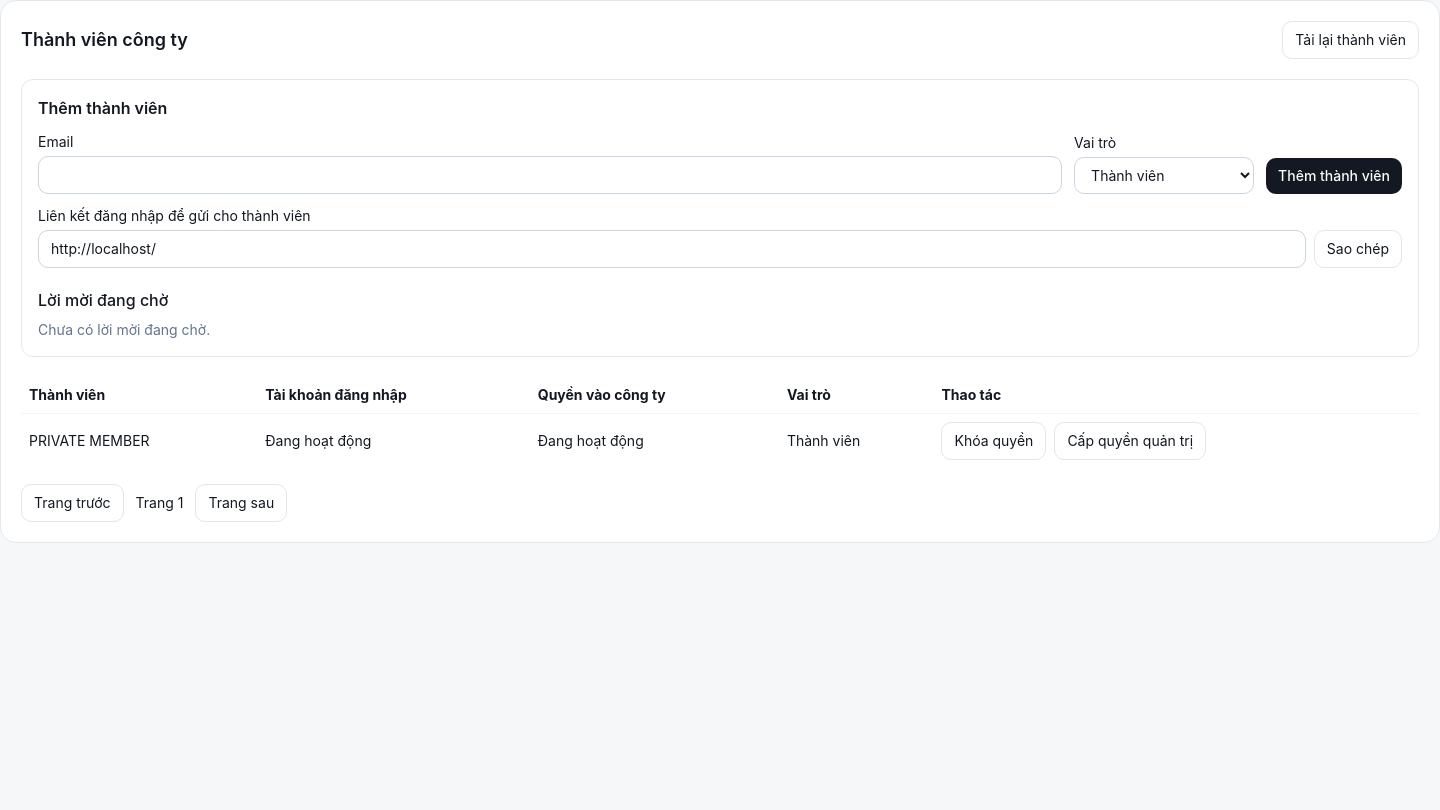
Test case: grants/removes through exact versioned operations and reloads authoritative roles
Check: the text "PRIVATE MEMBER" is shown, box [21,414,257,468]
Click the button with aria-label "Cấp quyền quản trị PRIVATE MEMBER" at {"x": 1130, "y": 441}, box [1054,422,1206,460]
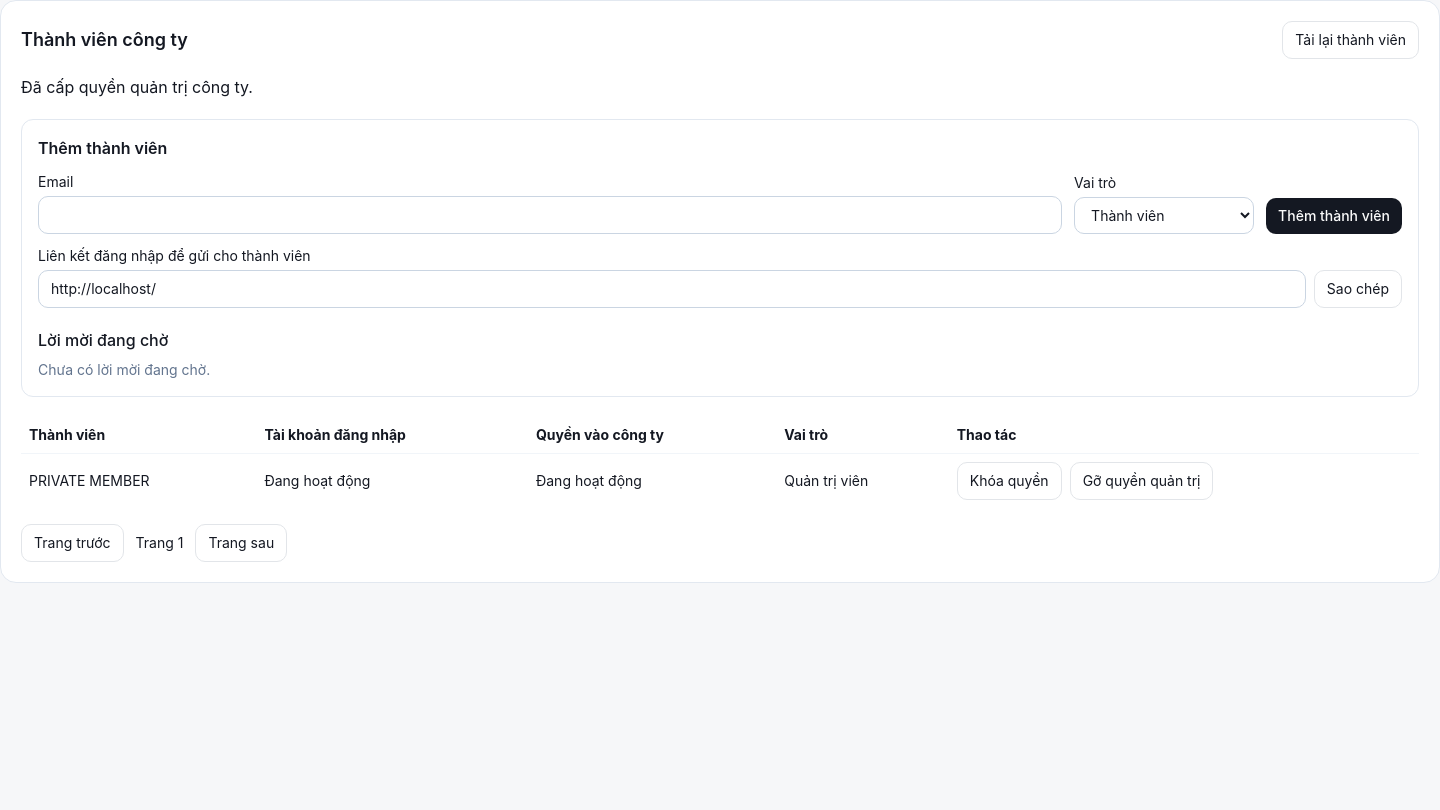
Check: the text "Đã cấp quyền quản trị công ty." is shown, box [21,77,253,97]
Check: the cell "Quản trị viên" is shown, box [776,454,949,508]
Click the button with aria-label "Gỡ quyền quản trị PRIVATE MEMBER" at {"x": 1142, "y": 481}, box [1070,462,1214,500]
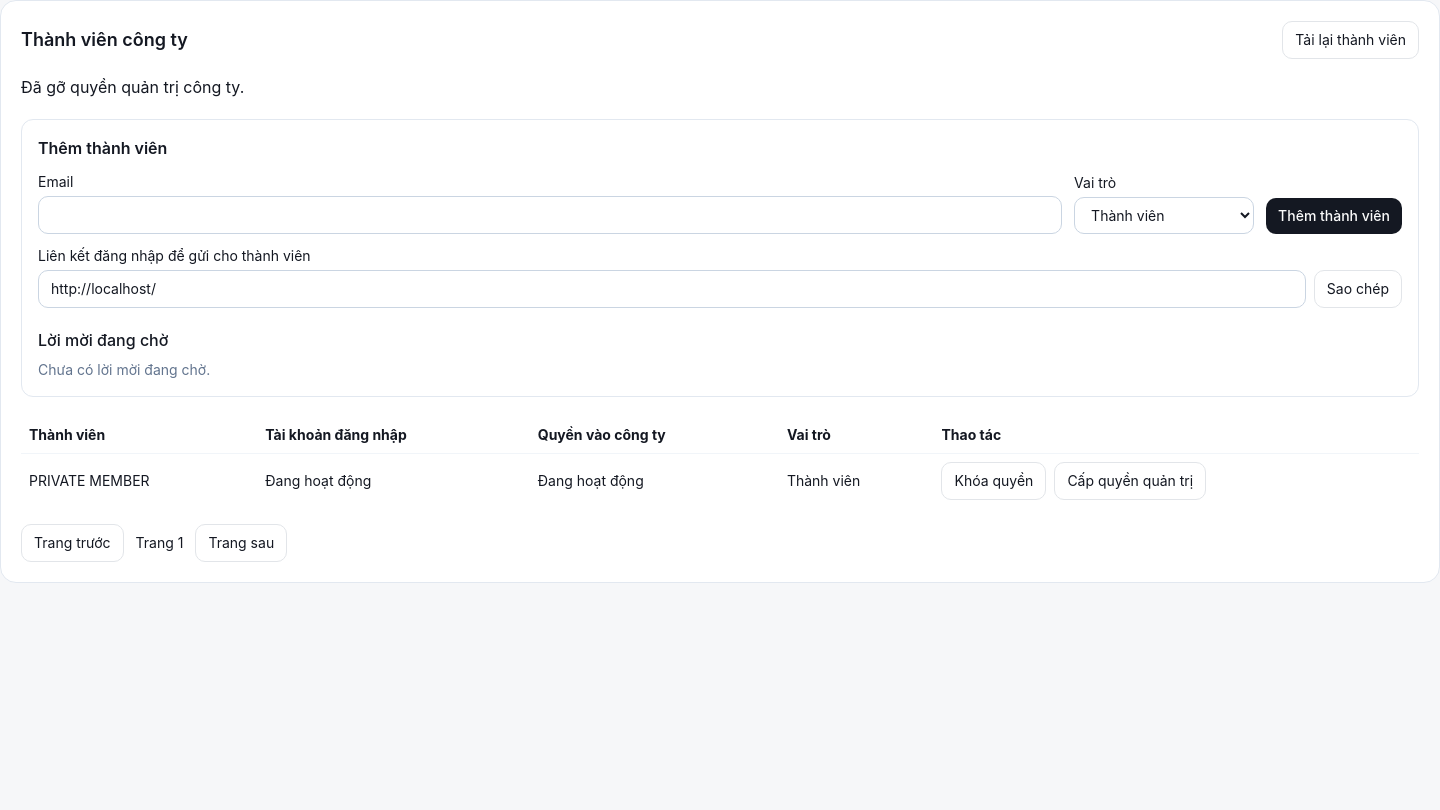
Check: the text "Đã gỡ quyền quản trị công ty." is shown, box [21,77,244,97]
Check: the cell "Thành viên" is shown, box [779,454,934,508]
